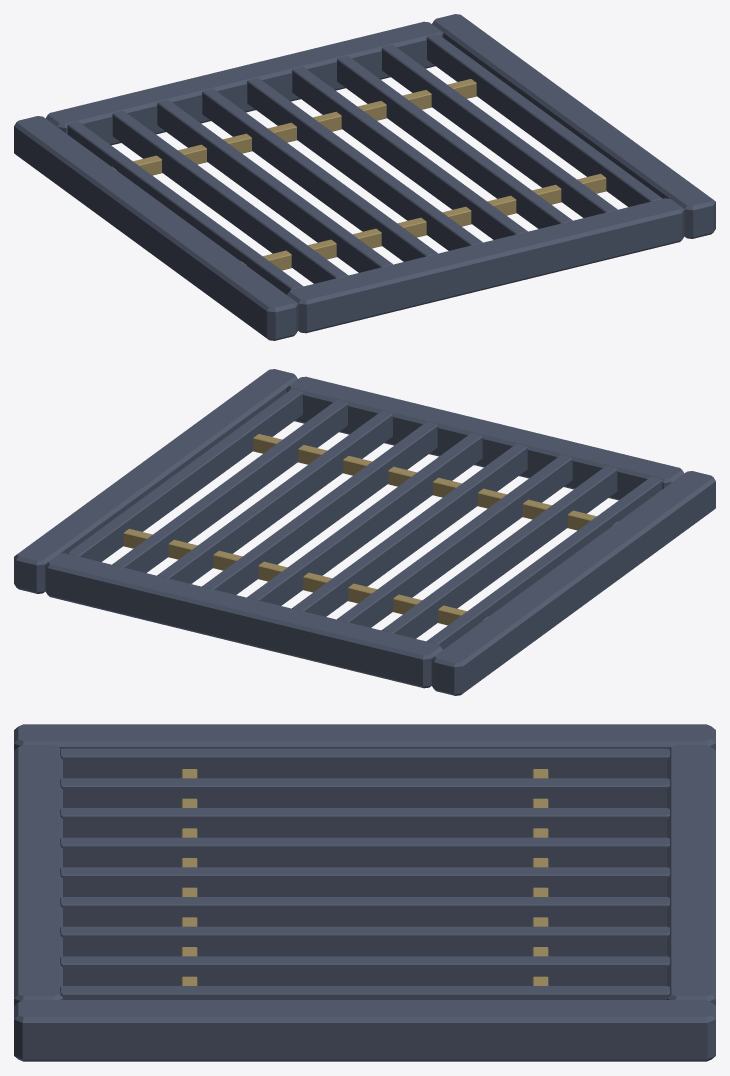
The model's file is floor-grate.glb.
The picture shows the model from 3 angles, top to bottom: view 1: azimuth 30°, elevation 25°; view 2: azimuth 150°, elevation 25°; view 3: azimuth 270°, elevation 25°; orthographic projection. The views are drawn at different scales.
Parts seen in each view (by area): view 1: floor-grate__body; view 2: floor-grate__body; view 3: floor-grate__body.
Part boxes in pixels (left/top/right/bottom): floor-grate__body: left=14, top=14, right=715, bottom=340; floor-grate__body: left=14, top=369, right=715, bottom=695; floor-grate__body: left=14, top=724, right=715, bottom=1061.
Size of the model in its own units: 2 by 0.14 by 2.
